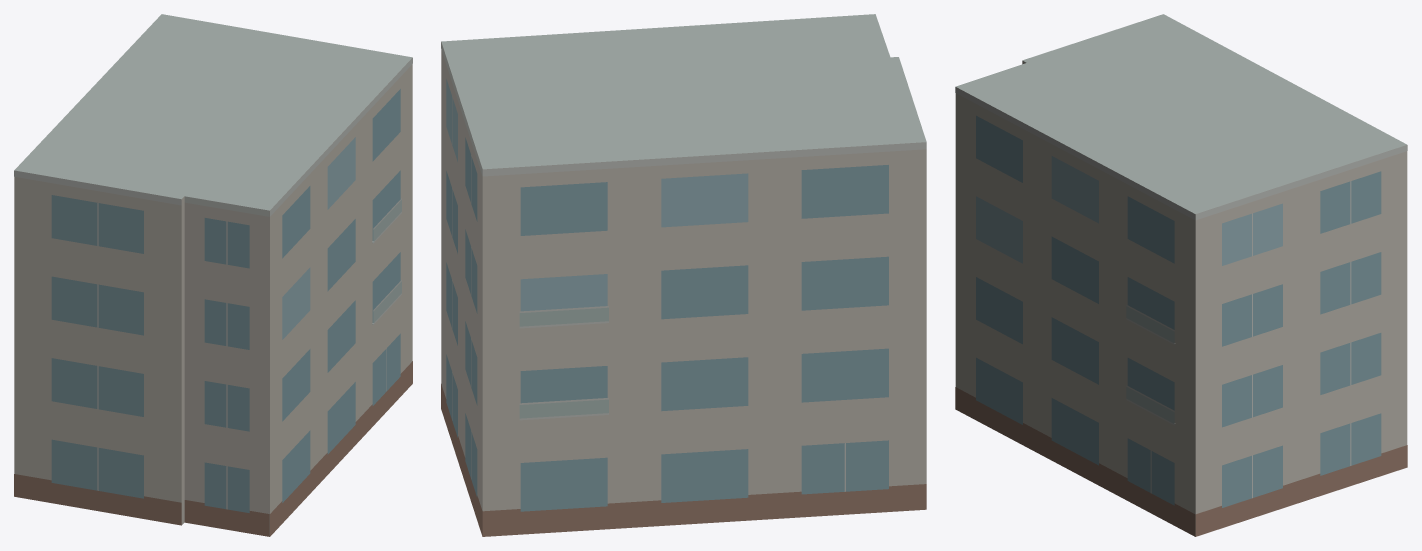
File: survey-upis-32680053.glb
The picture shows the model from 3 angles, left to right: view 1: azimuth 30°, elevation 25°; view 2: azimuth 150°, elevation 25°; view 3: azimuth 270°, elevation 25°; orthographic projection. The views are drawn at different scales.
Parts seen in each view (by area): view 1: survey-upis-32680053.tmp; view 2: survey-upis-32680053.tmp; view 3: survey-upis-32680053.tmp.
Boxes of the visible parts, x1,y1,x2,y2 form: survey-upis-32680053.tmp: (14,14,412,536); survey-upis-32680053.tmp: (441,14,926,536); survey-upis-32680053.tmp: (955,14,1407,536).
Size of the model in its own units: 16.79 by 12.61 by 16.02.
